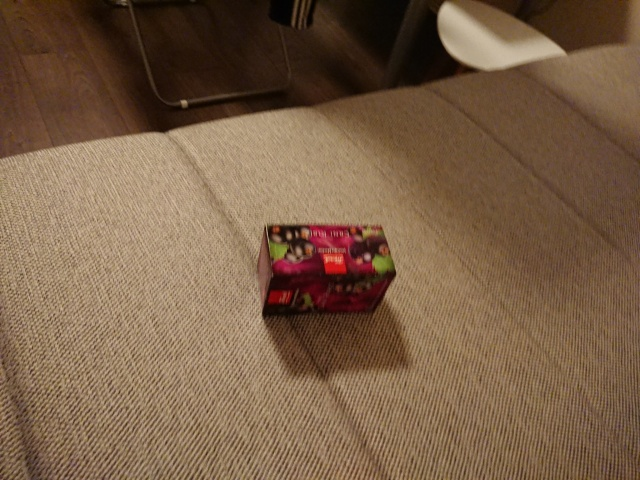Franck Black Currant Tea 60g: (252, 221, 399, 319)
